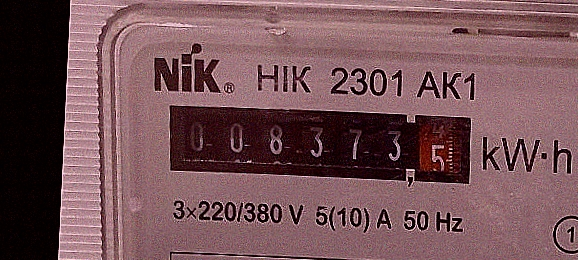0: (185, 117, 207, 154), (225, 118, 246, 155)
3: (382, 126, 406, 164), (304, 122, 327, 160)
4: (428, 120, 447, 141)
5: (428, 141, 448, 172)
7: (344, 123, 364, 163)
8: (264, 120, 287, 157)
screen: (160, 95, 481, 197)
